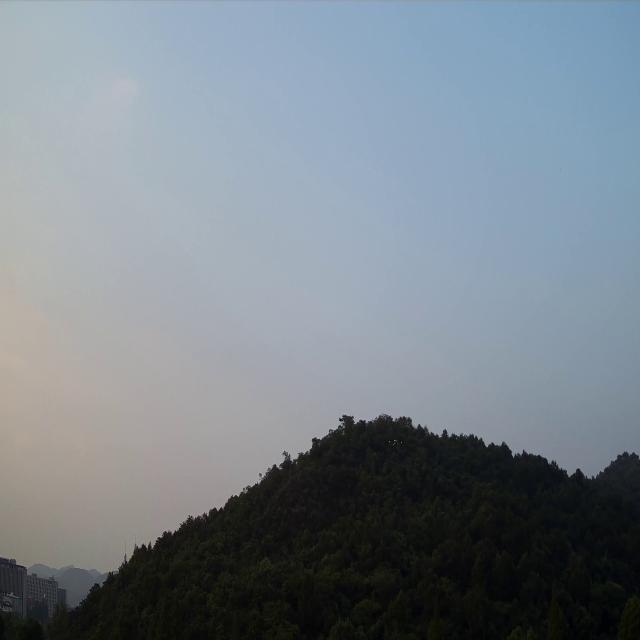UAV: (388, 437, 404, 446)
